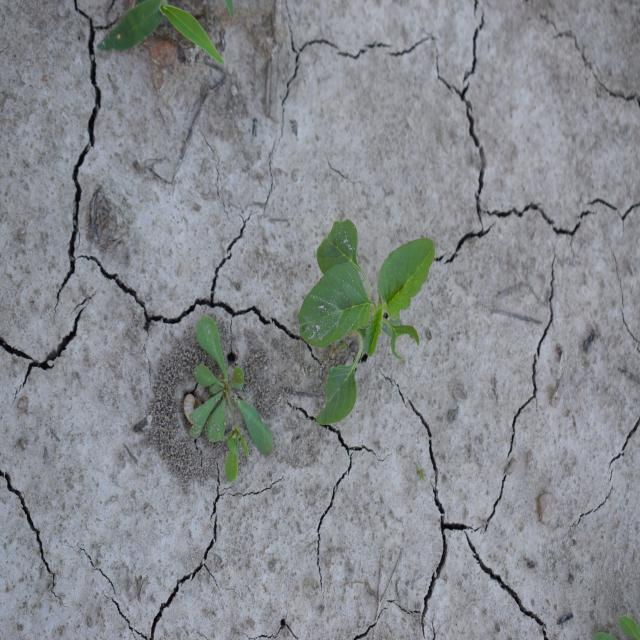Carpetweed: (188, 315, 275, 484)
PalmerAmaranth: (298, 217, 437, 427)
